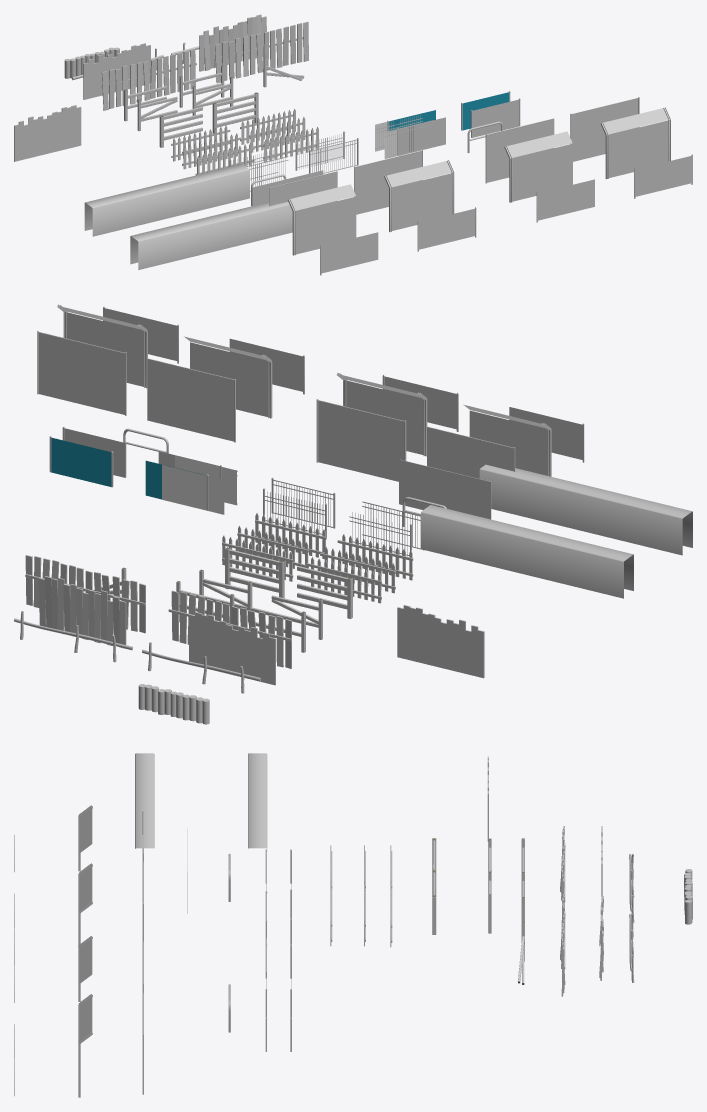
File: fence pack unity (duplicated 2 sided polys).FBX
The picture shows the model from 3 angles, top to bottom: view 1: azimuth 30°, elevation 25°; view 2: azimuth 150°, elevation 25°; view 3: azimuth 270°, elevation 25°; orthographic projection. The views are drawn at different scales.
Parts seen in each view (by area): view 1: low wall1, low wall2, chickenwire + barbed wire END, chickenwire + barbed wire END green, chickenwire + barbed wire, chickenwire + barbed wire green, Wood Fence 3 END, Wood Fence 3, Wood Fence 2 Backup full planks, chicken wire END green, chicken wire END, chicken wire green (+28 smaller); view 2: low wall1, low wall2, chicken wire END green, chicken wire green, chicken wire END, Wood Fence 2 Backup full planks, Wood Fence 2 broken, Wood Fence 2, chickenwire + barbed wire green, metal fence, chickenwire + barbed wire, chickenwire + barbed wire END green (+30 smaller); view 3: low wall1, low wall2, chickenwire + barbed wire END green, chickenwire + barbed wire END, chickenwire + barbed wire, chickenwire + barbed wire green.
Boxes of the visible parts, <box> form: low wall1: <box>84,164,249,236</box>; low wall2: <box>130,201,292,269</box>; chickenwire + barbed wire END: <box>384,160,454,231</box>; chickenwire + barbed wire END green: <box>601,107,670,179</box>; chickenwire + barbed wire: <box>288,184,356,255</box>; chickenwire + barbed wire green: <box>504,131,572,202</box>; Wood Fence 3 END: <box>214,21,308,83</box>; Wood Fence 3: <box>101,49,196,110</box>; Wood Fence 2 Backup full planks: <box>14,105,81,161</box>; chicken wire END green: <box>570,97,639,161</box>; chicken wire END: <box>354,150,422,214</box>; chicken wire green: <box>485,118,554,183</box>; low wall1: <box>421,505,633,598</box>; low wall2: <box>479,464,692,555</box>; chicken wire END green: <box>37,331,126,415</box>; chicken wire green: <box>147,358,235,442</box>; chicken wire END: <box>316,399,406,481</box>; Wood Fence 2 Backup full planks: <box>397,605,484,678</box>; Wood Fence 2 broken: <box>39,576,126,648</box>; Wood Fence 2: <box>189,612,275,685</box>; chickenwire + barbed wire green: <box>184,336,272,418</box>; metal fence: <box>399,459,491,519</box>; chickenwire + barbed wire: <box>463,404,551,476</box>; chickenwire + barbed wire END green: <box>57,304,147,388</box>; low wall1: <box>248,753,267,848</box>; low wall2: <box>135,753,154,848</box>; chickenwire + barbed wire END green: <box>78,994,92,1097</box>; chickenwire + barbed wire END: <box>78,863,92,945</box>; chickenwire + barbed wire: <box>78,805,92,871</box>; chickenwire + barbed wire green: <box>78,936,92,1001</box>.
Size of the model in its own units: 130 by 14.99 by 121.
